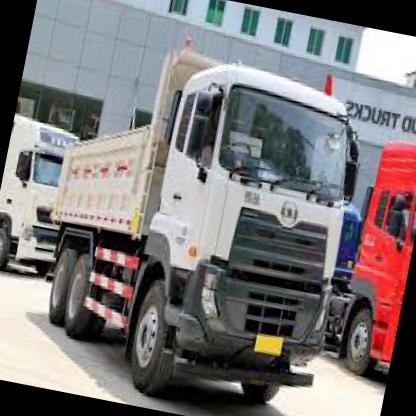truck: (112, 52, 375, 416)
